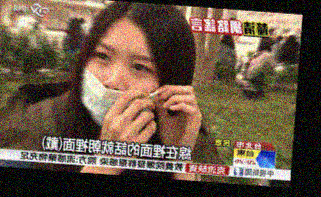mask_weared_incorrect: (77, 36, 159, 131)
